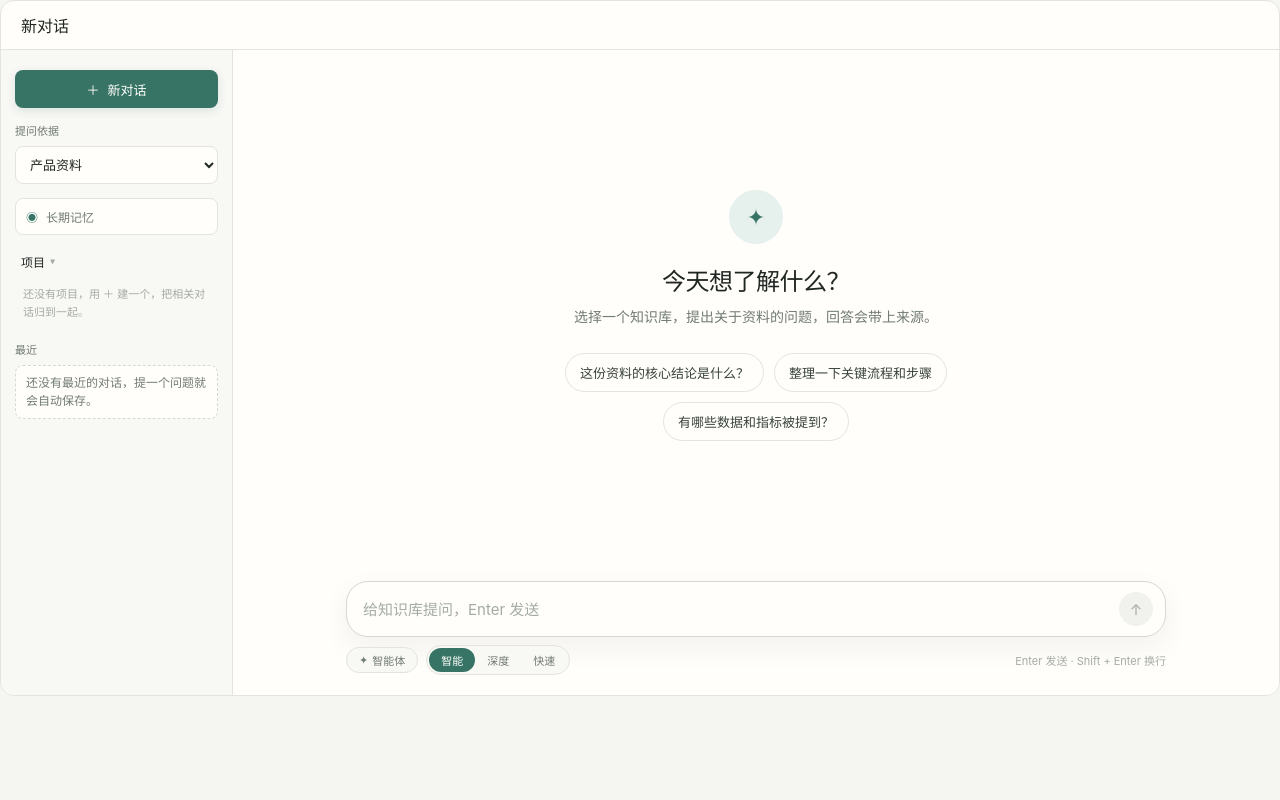
ChatView › streams a grounded answer and stores both messages
In the text box with placeholder "给知识库提问，Enter 发送": (736, 609) [363, 592, 1109, 626], type "产品有哪些说明？"
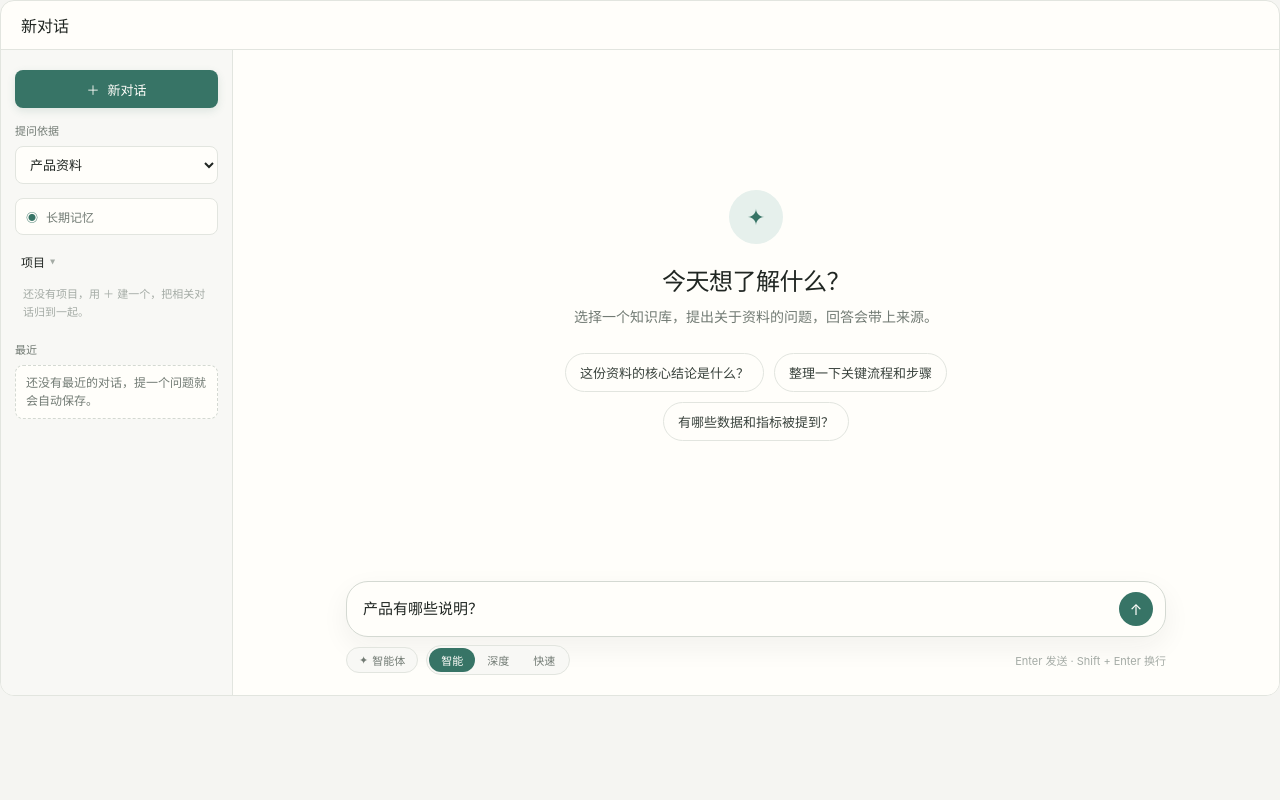
Press Enter in the text box named "输入问题", box [363, 592, 1109, 626]
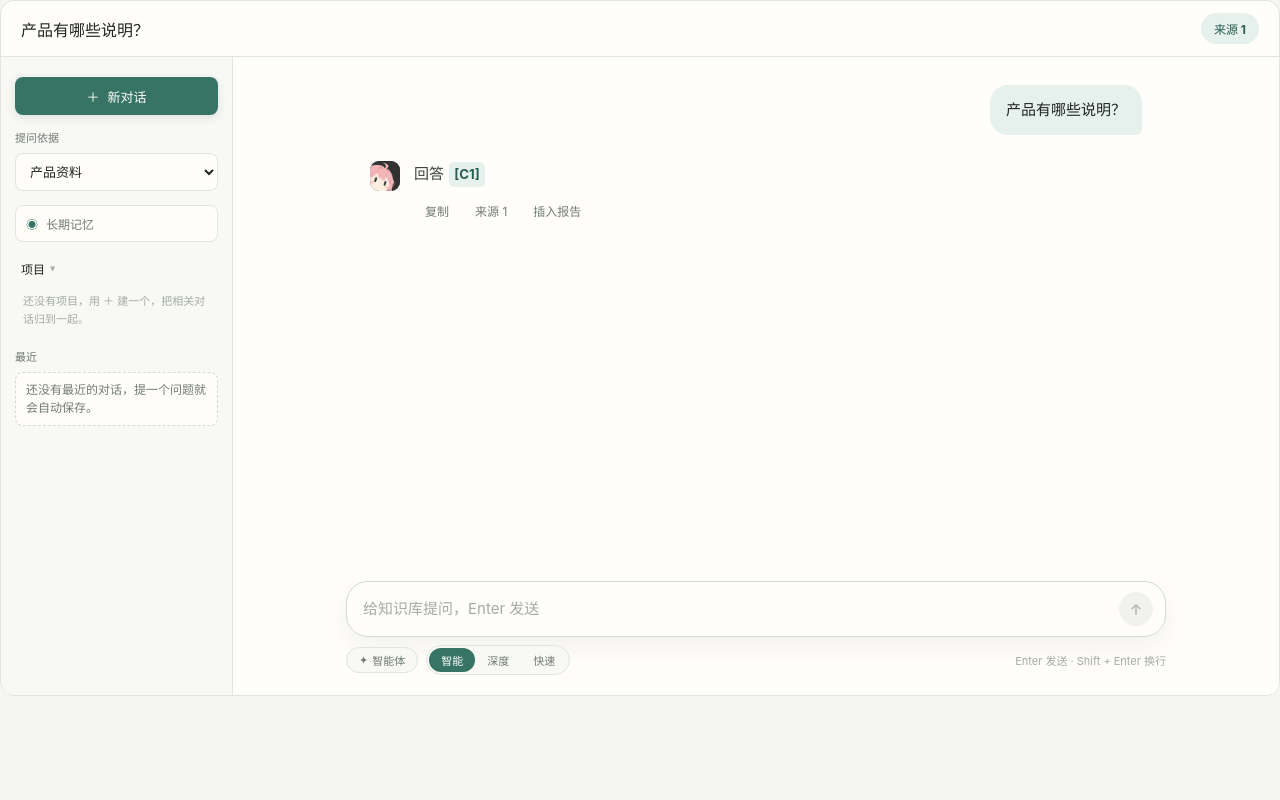
Expected: the text "回答 [C1]" is shown, [414, 162, 485, 187]
Expected: the text "产品有哪些说明？" is shown, [21, 20, 149, 40]
